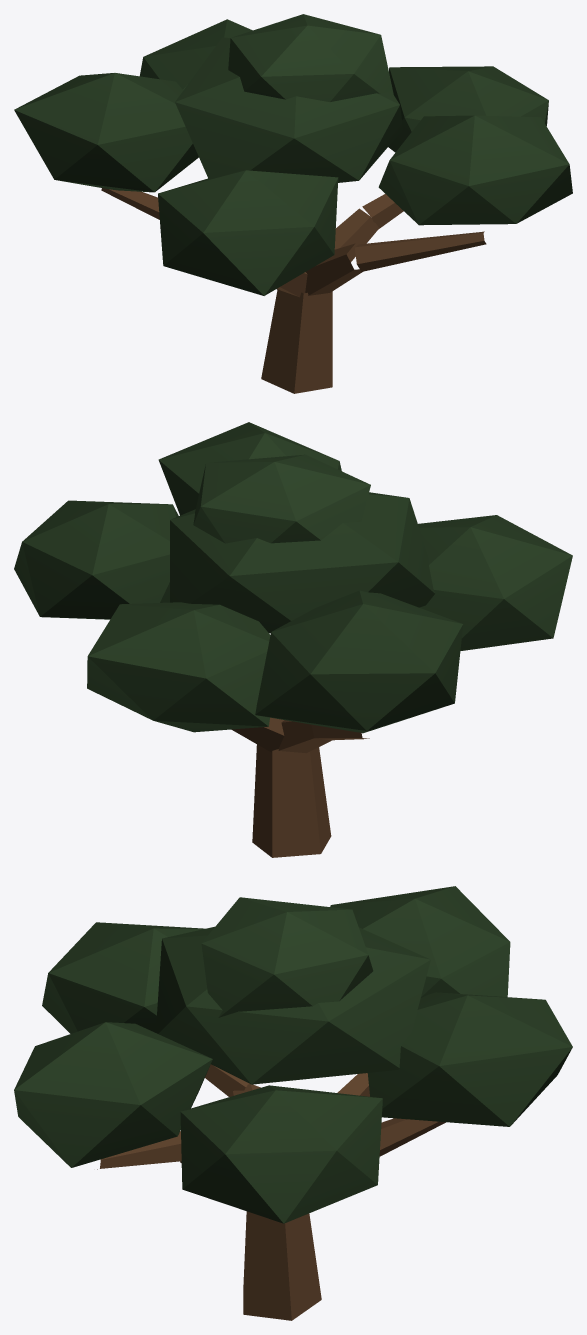
The model's file is oak.glb.
3 views of the same model, one above another, from view 1: azimuth 30°, elevation 25°; view 2: azimuth 150°, elevation 25°; view 3: azimuth 270°, elevation 25° (orthographic). The views are drawn at different scales.
Visible parts, largest first — view 1: oak; view 2: oak; view 3: oak.
Part boxes in pixels (bbox=[...]): oak: bbox=[14, 14, 572, 393]; oak: bbox=[14, 422, 572, 857]; oak: bbox=[14, 886, 572, 1320].
Bounding box in the file's own units: 1.5 × 1.09 × 1.39.
